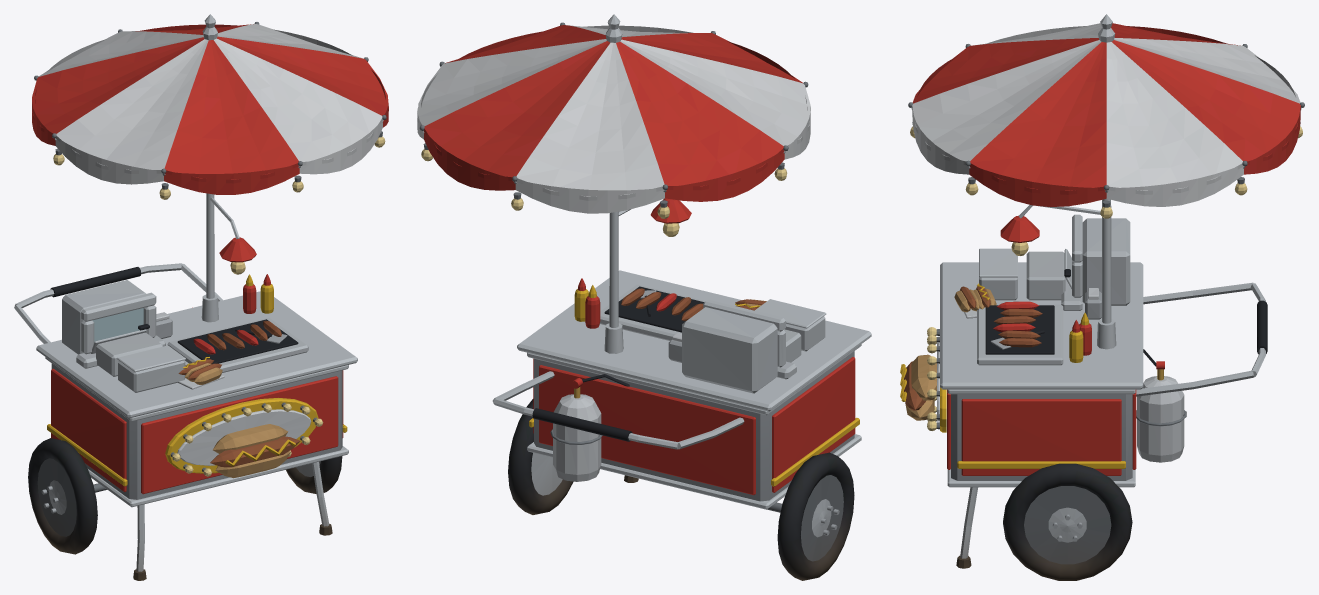
Rendered from hot-dog-cart.glb.
3 views of the same model, side by side, from view 1: azimuth 30°, elevation 25°; view 2: azimuth 150°, elevation 25°; view 3: azimuth 270°, elevation 25° (orthographic). The views are drawn at different scales.
Visible parts, largest first — view 1: hot_dog_cart; view 2: hot_dog_cart; view 3: hot_dog_cart.
Boxes of the visible parts, left/top/right/bottom form: hot_dog_cart: left=14, top=14, right=388, bottom=580; hot_dog_cart: left=417, top=14, right=871, bottom=580; hot_dog_cart: left=900, top=14, right=1304, bottom=580.
Size of the model in its own units: 1.96 by 2.68 by 1.87.
